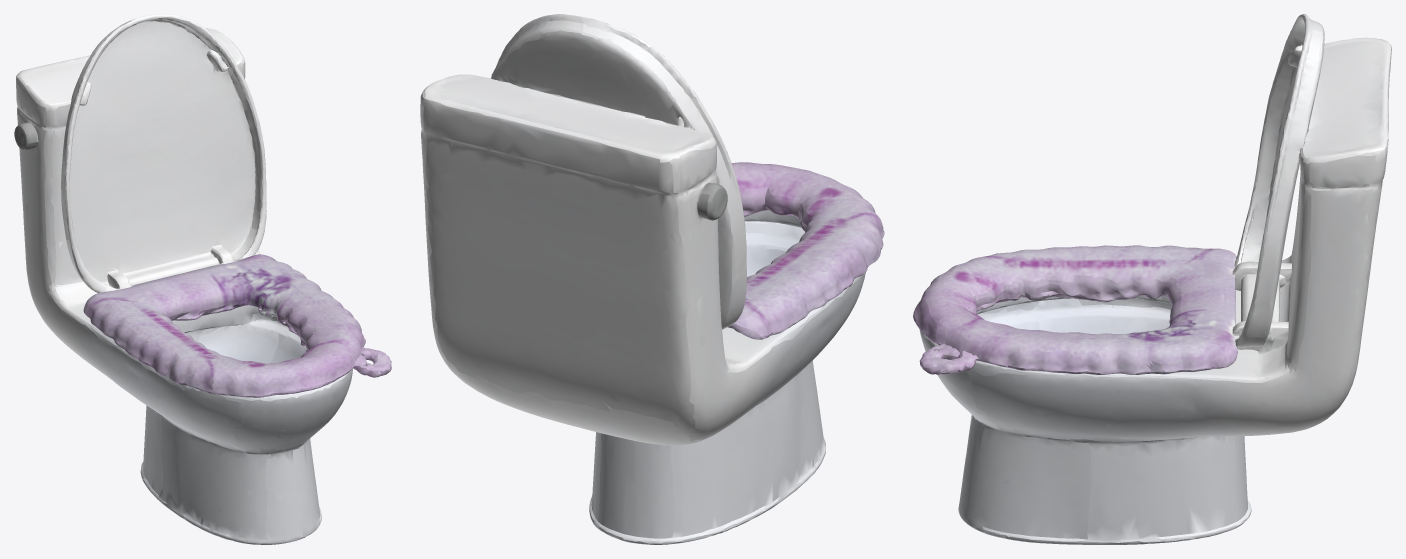
Rendered from item_b8eb69dd.glb.
The picture shows the model from 3 angles, left to right: view 1: azimuth 30°, elevation 25°; view 2: azimuth 150°, elevation 25°; view 3: azimuth 270°, elevation 25°; orthographic projection. The views are drawn at different scales.
Parts seen in each view (by area): view 1: world; view 2: world; view 3: world.
Part boxes in pixels (x1,y1,x2,y2): world: (14,14,391,544); world: (420,14,884,544); world: (913,14,1391,544).
Bounding box in the file's own units: 0.45 × 0.8233 × 0.7314.
Materials: 1 (1 with a texture image).
